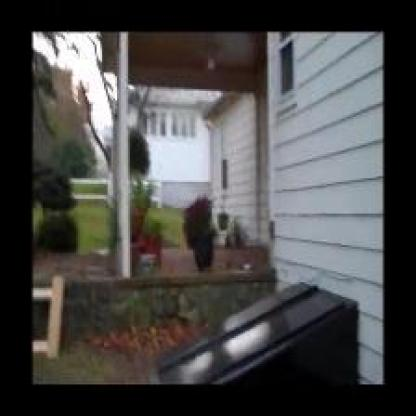other: (89, 326, 204, 345), (133, 216, 165, 266), (182, 195, 215, 219)
